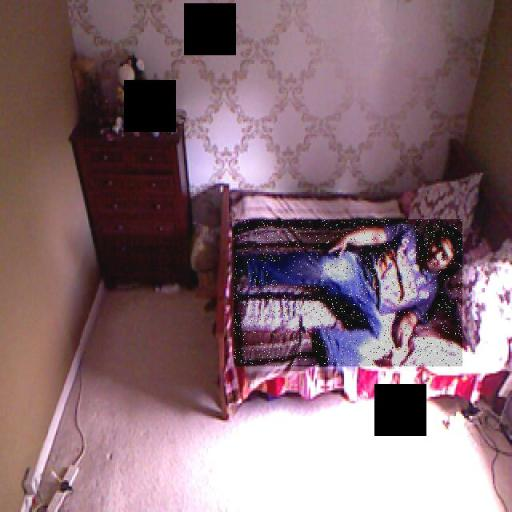Fall: (234, 220, 463, 367)
